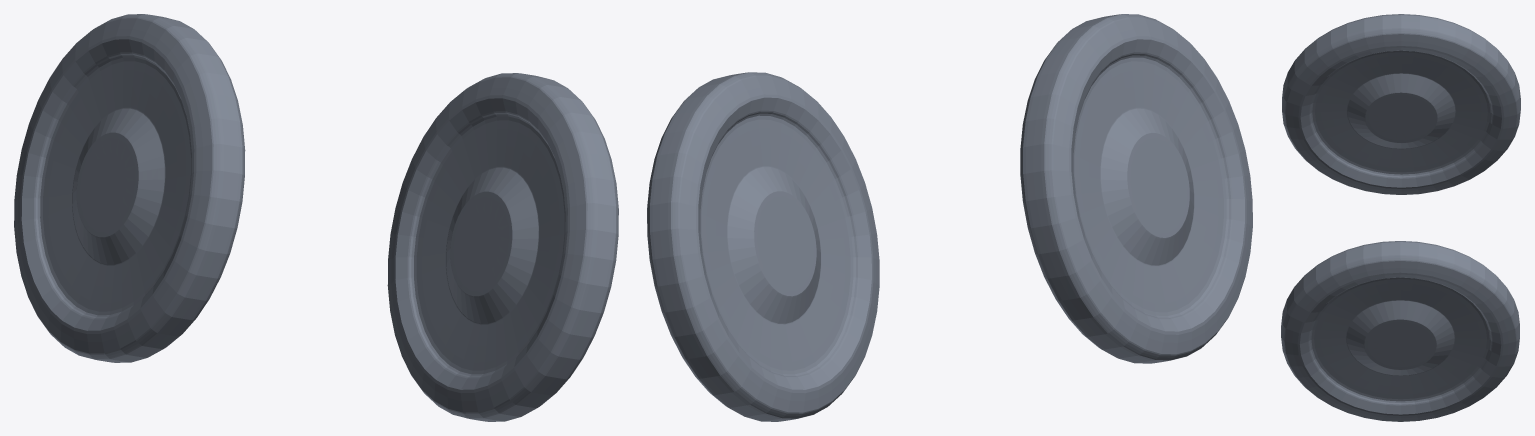
The model's file is weight_5_1.obj.
3 renders of one model, left to right at view 1: azimuth 30°, elevation 25°; view 2: azimuth 150°, elevation 25°; view 3: azimuth 270°, elevation 25°, orthographic. The views are drawn at different scales.
Bounding box in the file's own units: 0.9051 × 0.768 × 0.5383.
